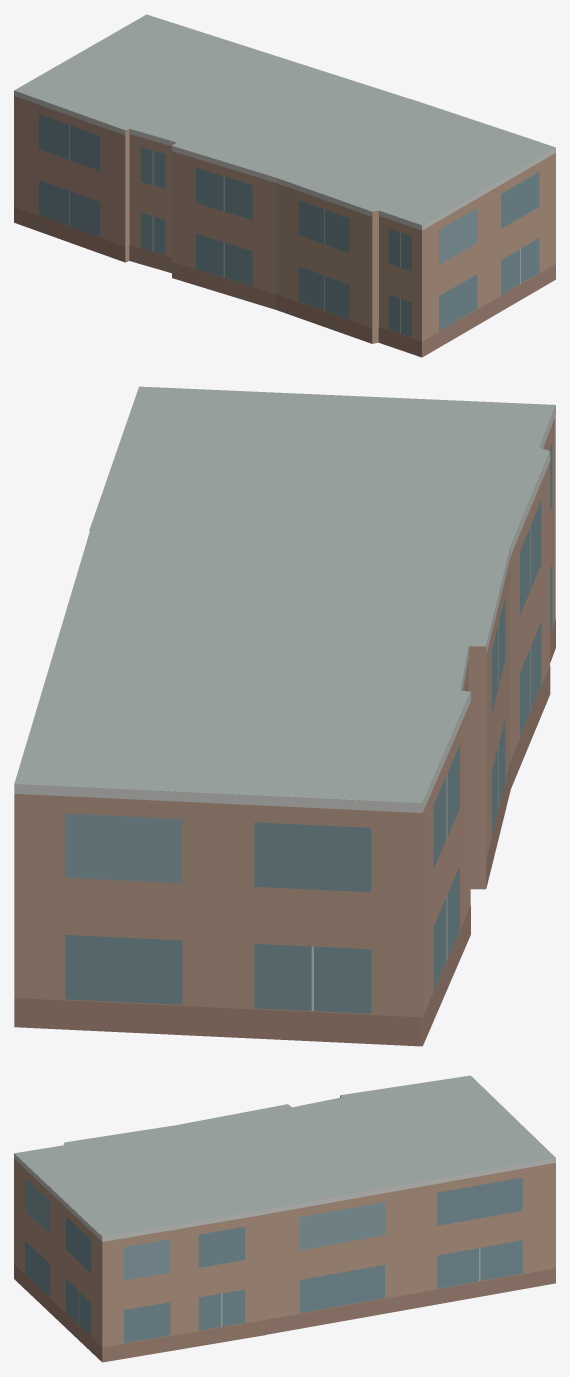
The model's file is survey-upis-32750859.glb.
3 views of the same model, one above another, from view 1: azimuth 30°, elevation 25°; view 2: azimuth 150°, elevation 25°; view 3: azimuth 270°, elevation 25° (orthographic). The views are drawn at different scales.
Parts seen in each view (by area): view 1: survey-upis-32750859.tmp; view 2: survey-upis-32750859.tmp; view 3: survey-upis-32750859.tmp.
Boxes of the visible parts, <box> form: survey-upis-32750859.tmp: <box>14,14,555,357</box>; survey-upis-32750859.tmp: <box>14,386,555,1046</box>; survey-upis-32750859.tmp: <box>14,1075,555,1362</box>.
Size of the model in its own units: 16.82 by 6.1 by 23.85.
